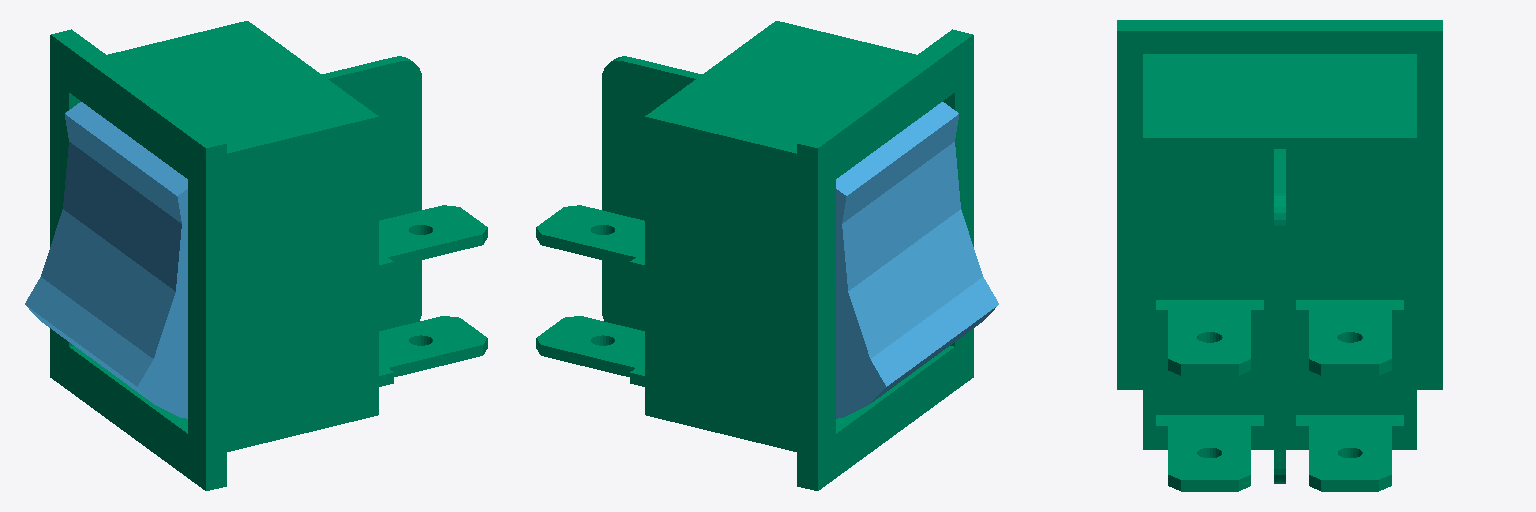
robot.urdf — partnet_5a8c4b01d7cdc687243fd6c0bc6255e8:
<robot name="partnet_5a8c4b01d7cdc687243fd6c0bc6255e8">
	<link name="base"><inertial><mass value="10" /><inertia ixx="1" ixy="0" ixz="0" iyy="1" iyz="0" izz="1" /></inertial></link>
	<link name="link_0">
		<visual name="switch-1">
			<origin xyz="0 -0.02442769136321424 -0.22830663284163158" />
			<geometry>
				<mesh filename="textured_objs/original-3.obj" />
			</geometry>
		</visual>
		<visual name="switch-1">
			<origin xyz="0 -0.02442769136321424 -0.22830663284163158" />
			<geometry>
				<mesh filename="textured_objs/original-2.obj" />
			</geometry>
		</visual>
		<visual name="switch-1">
			<origin xyz="0 -0.02442769136321424 -0.22830663284163158" />
			<geometry>
				<mesh filename="textured_objs/original-9.obj" />
			</geometry>
		</visual>
		<visual name="switch-1">
			<origin xyz="0 -0.02442769136321424 -0.22830663284163158" />
			<geometry>
				<mesh filename="textured_objs/original-5.obj" />
			</geometry>
		</visual>
		<visual name="switch-1">
			<origin xyz="0 -0.02442769136321424 -0.22830663284163158" />
			<geometry>
				<mesh filename="textured_objs/original-6.obj" />
			</geometry>
		</visual>
		<visual name="switch-1">
			<origin xyz="0 -0.02442769136321424 -0.22830663284163158" />
			<geometry>
				<mesh filename="textured_objs/original-7.obj" />
			</geometry>
		</visual>
		<collision>
			<origin xyz="0 -0.02442769136321424 -0.22830663284163158" />
			<geometry>
				<mesh filename="textured_objs/original-3.obj" />
			</geometry>
		</collision>
		<collision>
			<origin xyz="0 -0.02442769136321424 -0.22830663284163158" />
			<geometry>
				<mesh filename="textured_objs/original-2.obj" />
			</geometry>
		</collision>
		<collision>
			<origin xyz="0 -0.02442769136321424 -0.22830663284163158" />
			<geometry>
				<mesh filename="textured_objs/original-9.obj" />
			</geometry>
		</collision>
		<collision>
			<origin xyz="0 -0.02442769136321424 -0.22830663284163158" />
			<geometry>
				<mesh filename="textured_objs/original-5.obj" />
			</geometry>
		</collision>
		<collision>
			<origin xyz="0 -0.02442769136321424 -0.22830663284163158" />
			<geometry>
				<mesh filename="textured_objs/original-6.obj" />
			</geometry>
		</collision>
		<collision>
			<origin xyz="0 -0.02442769136321424 -0.22830663284163158" />
			<geometry>
				<mesh filename="textured_objs/original-7.obj" />
			</geometry>
		</collision>
	<inertial><mass value="10" /><inertia ixx="1" ixy="0" ixz="0" iyy="1" iyz="0" izz="1" /></inertial></link>
	<joint name="joint_0" type="revolute">
		<origin xyz="0 0.02442769136321424 0.22830663284163158" />
		<axis xyz="1 0 0" />
		<child link="link_0" />
		<parent link="link_1" />
		<limit effort="30" lower="-0.03141592653589813" upper="0.4146902302738527" velocity="1.0" />
	</joint>
	<link name="link_1">
		<visual name="base_body-2">
			<origin xyz="0 0 0" />
			<geometry>
				<mesh filename="textured_objs/original-8.obj" />
			</geometry>
		</visual>
		<collision>
			<origin xyz="0 0 0" />
			<geometry>
				<mesh filename="textured_objs/original-8.obj" />
			</geometry>
		</collision>
	<inertial><mass value="10" /><inertia ixx="1" ixy="0" ixz="0" iyy="1" iyz="0" izz="1" /></inertial></link>
	<joint name="joint_1" type="fixed">
		<origin rpy="1.570796326794897 0 -1.570796326794897" xyz="0 0 0" />
		<child link="link_1" />
		<parent link="base" />
	</joint>
</robot>

--- Facts derived from the render (not from the file) ---
Views: 3 orthographic renders of the robot side by side, from view 1: azimuth 30°, elevation 25°; view 2: azimuth 150°, elevation 25°; view 3: azimuth 270°, elevation 25°.
Model partnet_5a8c4b01d7cdc687243fd6c0bc6255e8 with 3 links and 2 joints (1 revolute, 1 fixed), rooted at base, posed every joint at zero.
Links seen in each view (by area): view 1: link_1, link_0; view 2: link_1, link_0; view 3: link_1.
Link boxes in pixels (x1,y1,x2,y2): link_1: (50,21,487,490); link_0: (25,102,187,418); link_1: (536,21,973,490); link_0: (836,102,998,418); link_1: (1117,20,1442,491).
Size in the robot's own frame: 1.48 by 1.11 by 1.35 metres.
7 mesh visuals loaded from 7 distinct referenced files (7 OBJ).